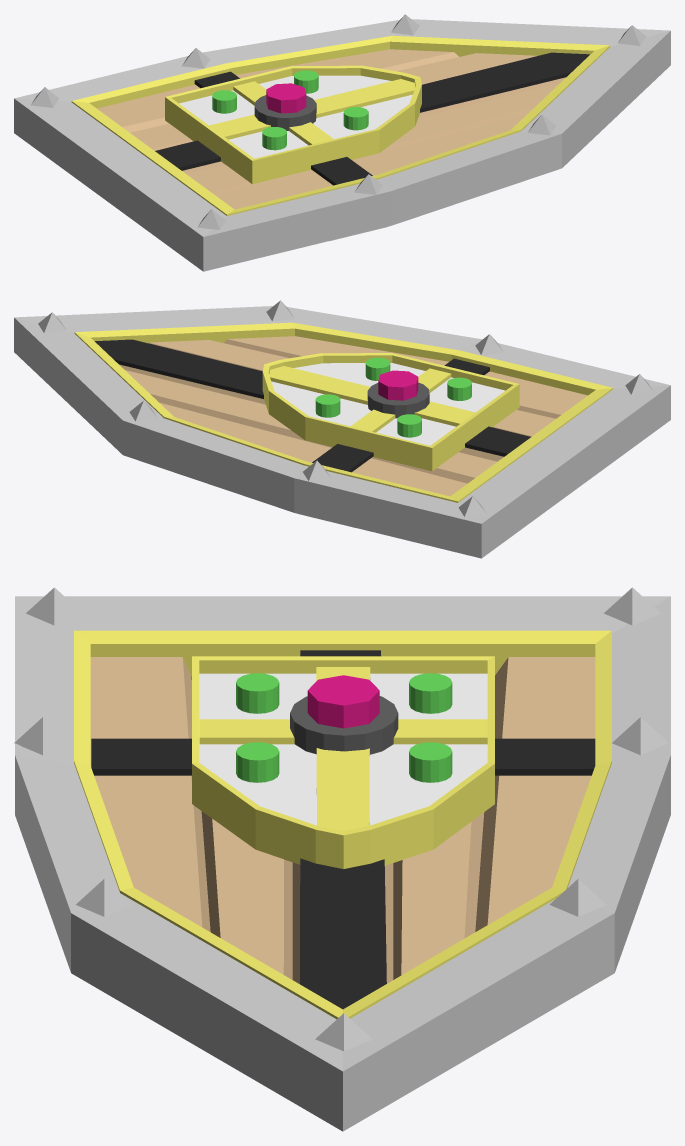
Rendered from Shield_4_e_wood.fbx.
The picture shows the model from 3 angles, top to bottom: view 1: azimuth 30°, elevation 25°; view 2: azimuth 150°, elevation 25°; view 3: azimuth 270°, elevation 25°; orthographic projection. The views are drawn at different scales.
Parts seen in each view (by area): view 1: Plane.136, Plane.059, Plane.060, Plane.063, Plane.064, Plane.062, Plane.066, Plane.065, Circle.045, Circle.046, Plane.067, Circle.048 (+3 smaller); view 2: Plane.136, Plane.059, Plane.060, Plane.063, Plane.064, Plane.062, Plane.066, Plane.065, Circle.045, Circle.046, Plane.067, Circle.047 (+3 smaller); view 3: Plane.136, Plane.059, Plane.060, Plane.063, Plane.062, Plane.064, Plane.065, Plane.066, Plane.067, Circle.045, Circle.046, Circle.047 (+10 smaller).
Boxes of the visible parts, x1,y1,x2,y2 form: Plane.136: (14, 19, 670, 271); Plane.059: (97, 49, 565, 209); Plane.060: (71, 35, 610, 215); Plane.063: (165, 65, 421, 184); Plane.064: (155, 52, 589, 170); Plane.062: (179, 75, 412, 158); Plane.066: (209, 79, 415, 139); Plane.065: (194, 71, 372, 185); Circle.045: (254, 95, 316, 130); Circle.046: (266, 83, 306, 113); Plane.067: (233, 81, 333, 145); Circle.048: (343, 107, 368, 130); Plane.136: (14, 306, 670, 558); Plane.059: (119, 336, 587, 496); Plane.060: (74, 322, 613, 502); Plane.063: (262, 353, 519, 471); Plane.064: (95, 339, 530, 456); Plane.062: (271, 363, 505, 445); Plane.066: (269, 366, 475, 426); Plane.065: (312, 358, 489, 472); Circle.045: (367, 382, 429, 418); Circle.046: (378, 370, 418, 400); Plane.067: (350, 368, 451, 432); Circle.047: (315, 394, 340, 417); Plane.136: (15, 596, 670, 1131); Plane.059: (90, 657, 595, 983); Plane.060: (74, 630, 611, 1019); Plane.063: (192, 656, 494, 868); Plane.062: (199, 673, 487, 825); Plane.064: (300, 650, 386, 1009); Plane.065: (91, 738, 595, 775); Plane.066: (316, 667, 370, 830); Plane.067: (199, 719, 487, 744); Circle.045: (290, 696, 398, 754); Circle.046: (307, 675, 379, 728); Circle.047: (409, 742, 452, 782).
Size of the model in its own units: 78 by 18.48 by 45.56.
